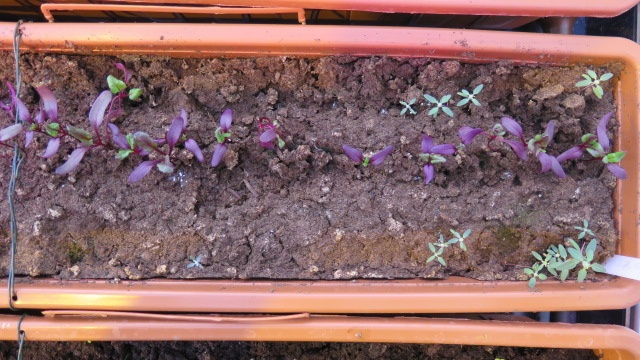crop: (57, 89, 115, 175), (128, 120, 185, 184), (501, 115, 555, 175), (33, 83, 70, 164), (556, 111, 612, 164), (466, 123, 529, 163), (161, 113, 206, 163), (583, 139, 628, 181), (339, 142, 396, 174), (435, 126, 482, 160), (211, 108, 236, 168), (419, 134, 445, 188), (256, 115, 286, 152)
weed: (568, 68, 615, 102), (570, 246, 607, 280), (421, 92, 454, 120), (453, 82, 486, 108), (545, 242, 570, 269), (523, 262, 547, 287), (448, 228, 473, 251), (392, 96, 418, 118), (428, 243, 446, 268), (574, 220, 595, 240), (188, 255, 204, 271)
